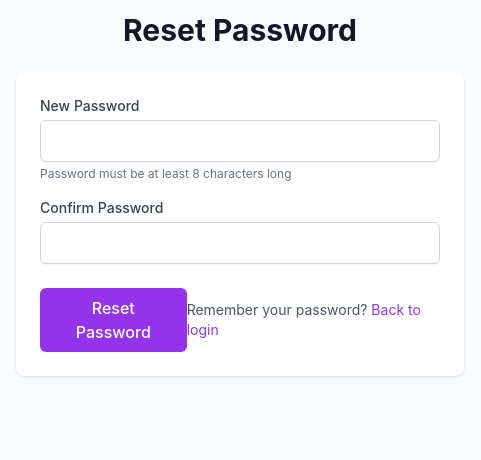
Test: ResetPasswordPage › should handle API errors gracefully
The width and height of the screenshot is (481, 460).
Type "ValidPassword123" into the password field labelled "New Password" at (240, 141), box [40,120,440,162]
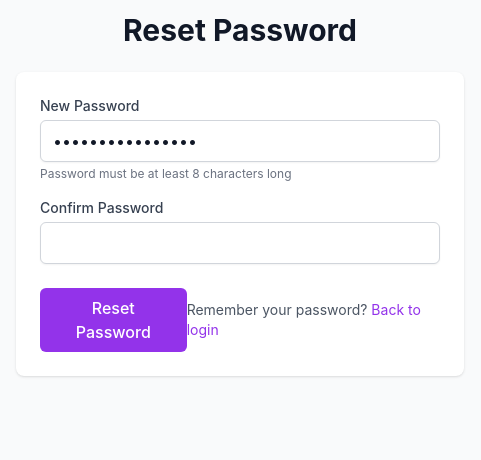
Type "ValidPassword123" into the password field labelled "Confirm Password" at (240, 243), box [40,222,440,264]
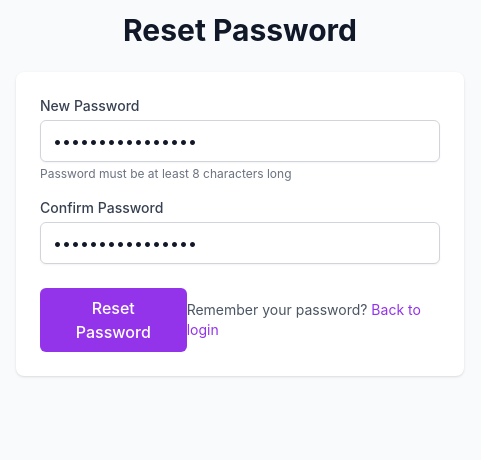
Note: Submit the form
Click the button "Reset Password" at (113, 320), box [40,288,187,352]
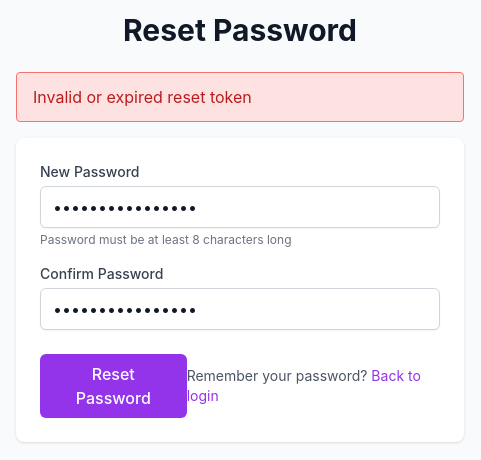
Expected: the button "Reset Password" is enabled, [40,354,187,418]
Result: the text "Invalid or expired reset token" is shown at [16,72,464,122]
